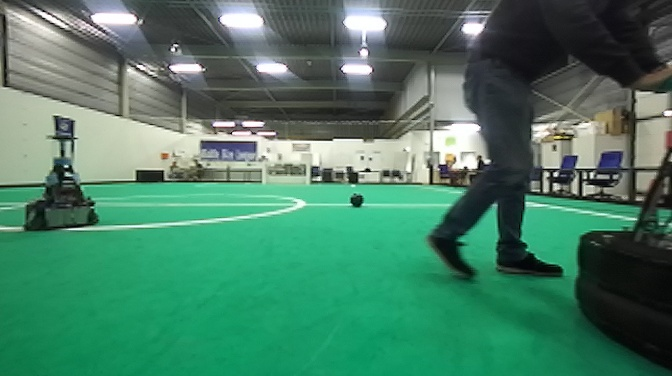ball: (349, 190, 367, 209)
goal: (261, 160, 310, 184)
goalpost: (262, 163, 268, 184), (306, 161, 310, 185)
human: (422, 1, 672, 284)
robot: (566, 74, 672, 376), (22, 108, 103, 233)
